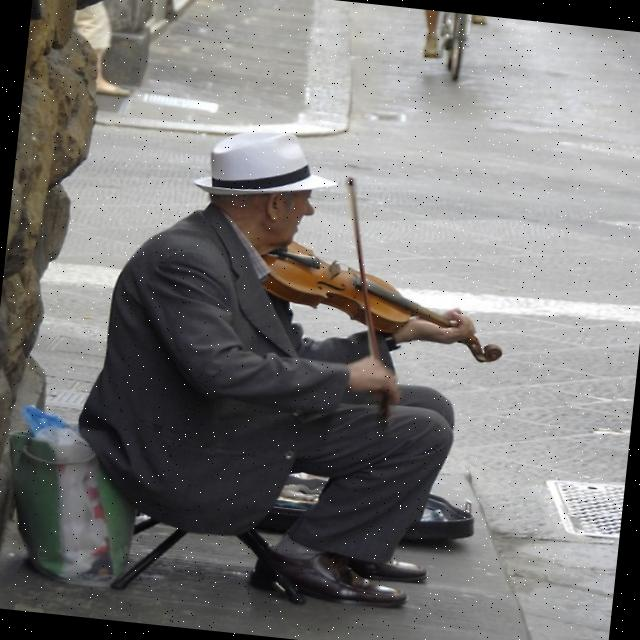violin: (245, 234, 512, 366)
